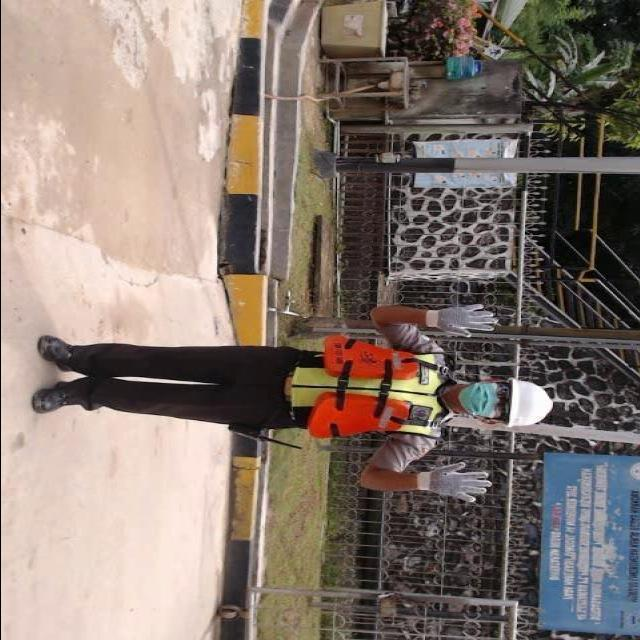helmet: (502, 370, 554, 438)
jacket: (295, 331, 458, 451)
